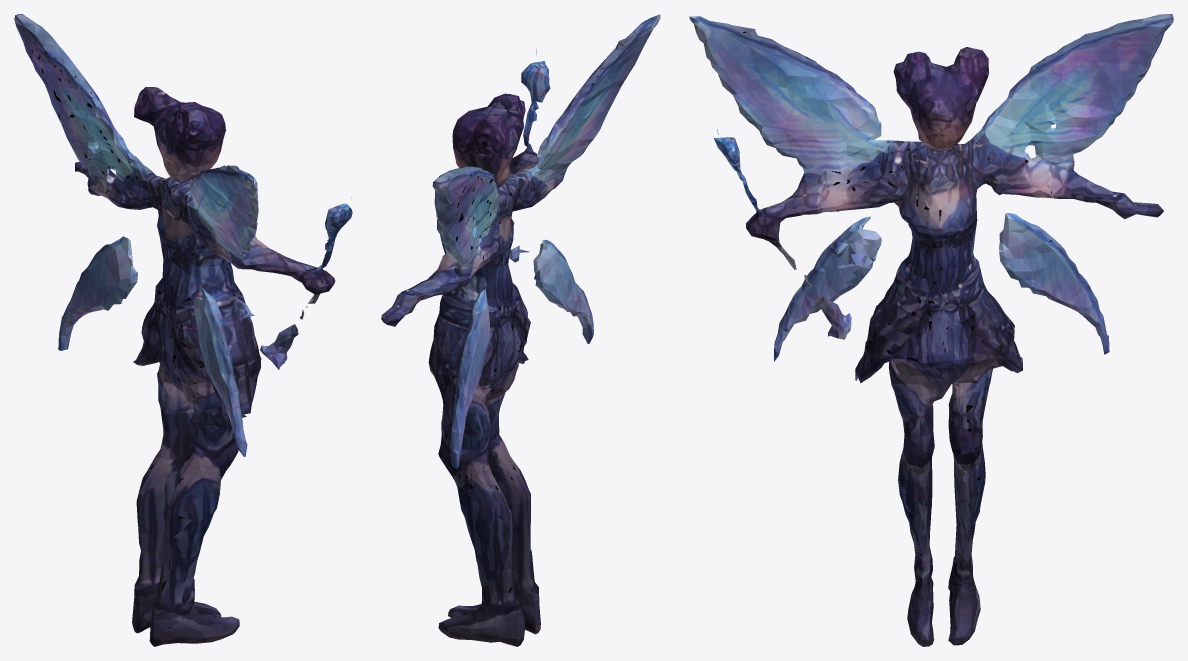
File: monster_fairy_1.glb
The picture shows the model from 3 angles, left to right: view 1: azimuth 30°, elevation 25°; view 2: azimuth 150°, elevation 25°; view 3: azimuth 270°, elevation 25°; orthographic projection. The views are drawn at different scales.
Parts seen in each view (by area): view 1: zzzz15; view 2: zzzz15; view 3: zzzz15.
Boxes of the visible parts, <box> form: zzzz15: <box>14,14,352,646</box>; zzzz15: <box>381,14,660,646</box>; zzzz15: <box>689,14,1173,646</box>.
Bounding box in the file's own units: 0.6531 × 2.69 × 2.02.
1 material, 1 textured.
